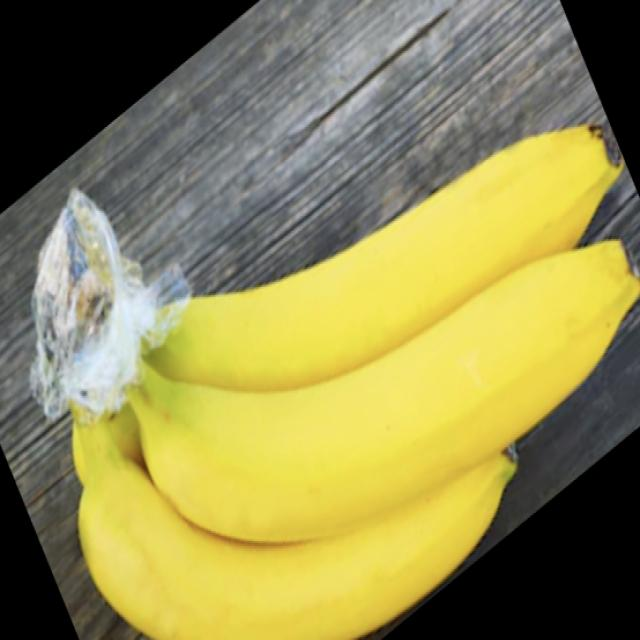god quality banana: (34, 125, 640, 638)
